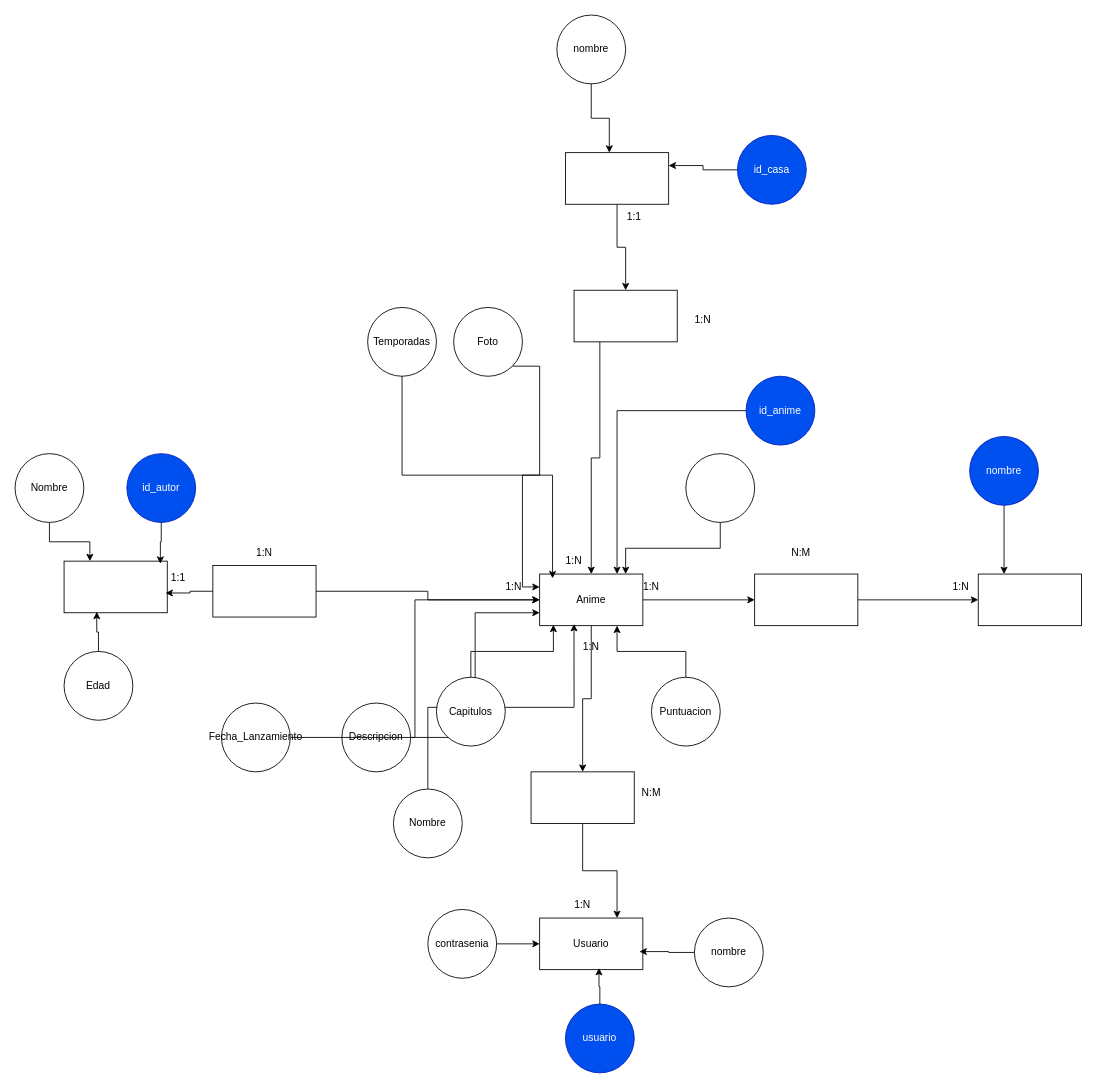
The diagram is 1097 pixels wide and 1088 high, and some of its shapes have lost their labels. Each missing label, with the centre of its shape:
Autor: the point at 115,586
Cartel: the point at 720,487
Casa_Animadora: the point at 617,178
Genero: the point at 1029,599
Relacion_AA: the point at 264,591
Relacion_AG: the point at 806,599
Relacion_AU: the point at 582,797
Relacion_CA: the point at 625,315
